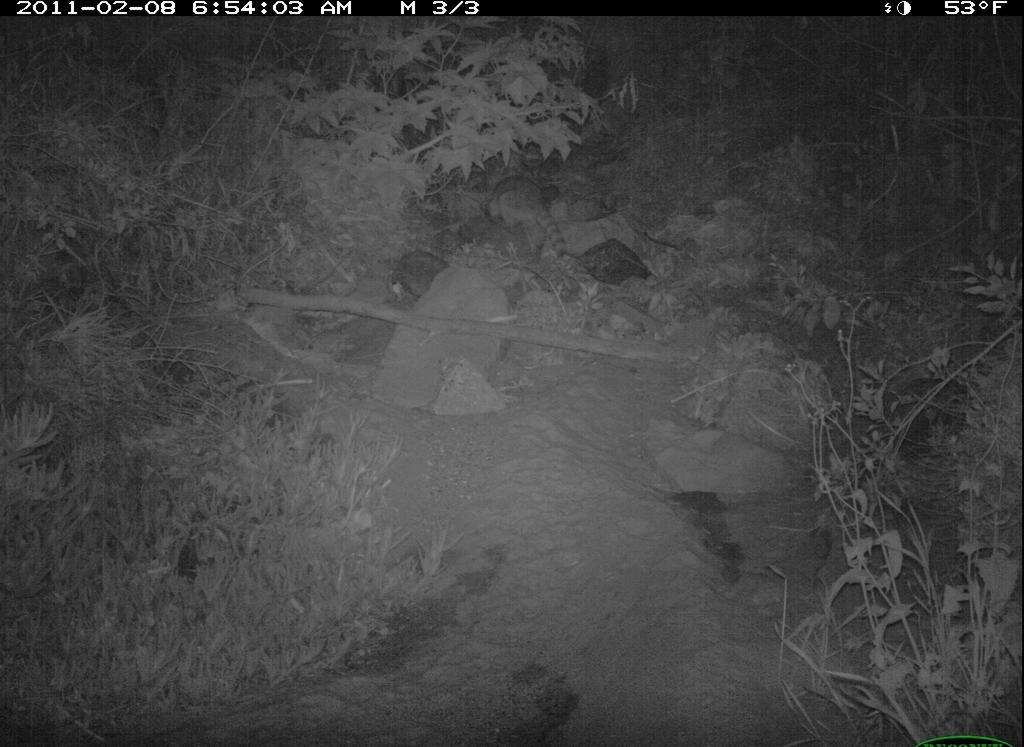raccoon: (487, 152, 575, 271)
